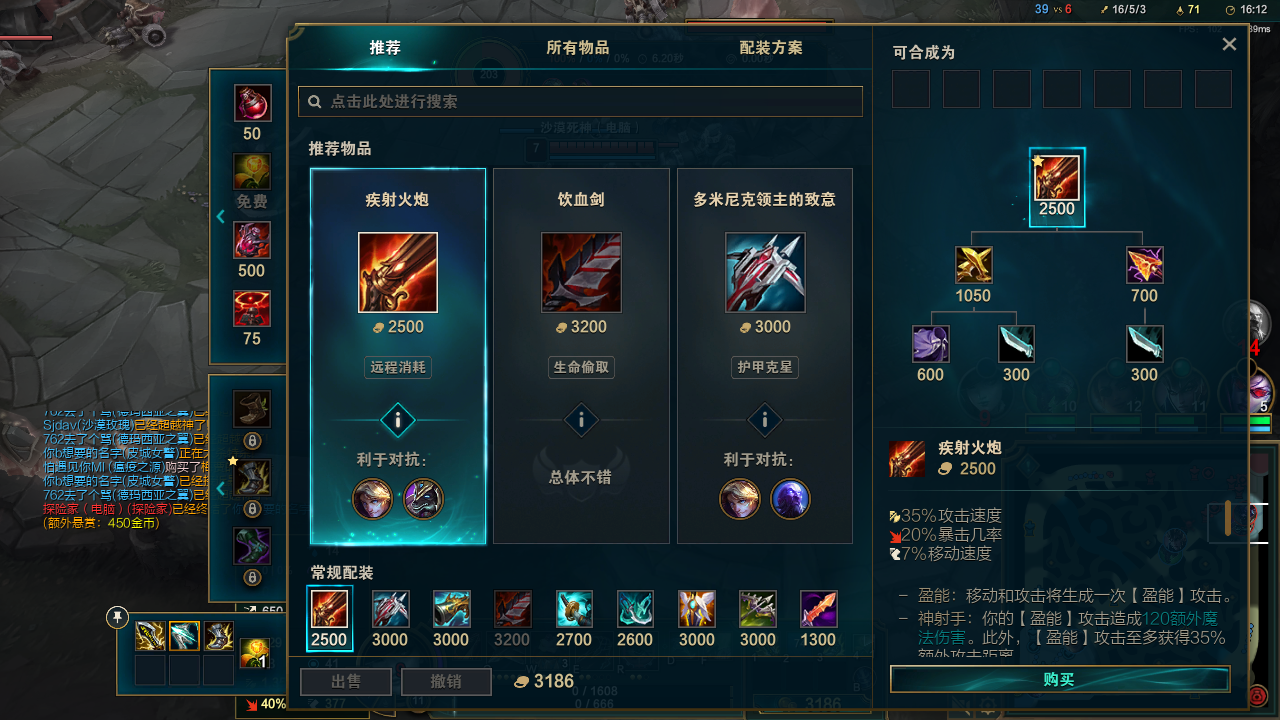GTH: (553, 399, 608, 444), (737, 402, 787, 437)
TJGTH: (311, 377, 485, 451)
TJJM: (332, 28, 430, 72)
